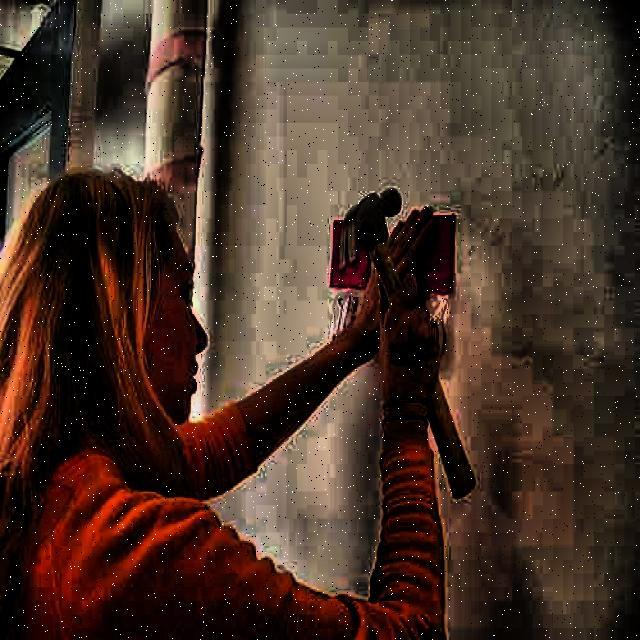hammer: (338, 186, 484, 500)
